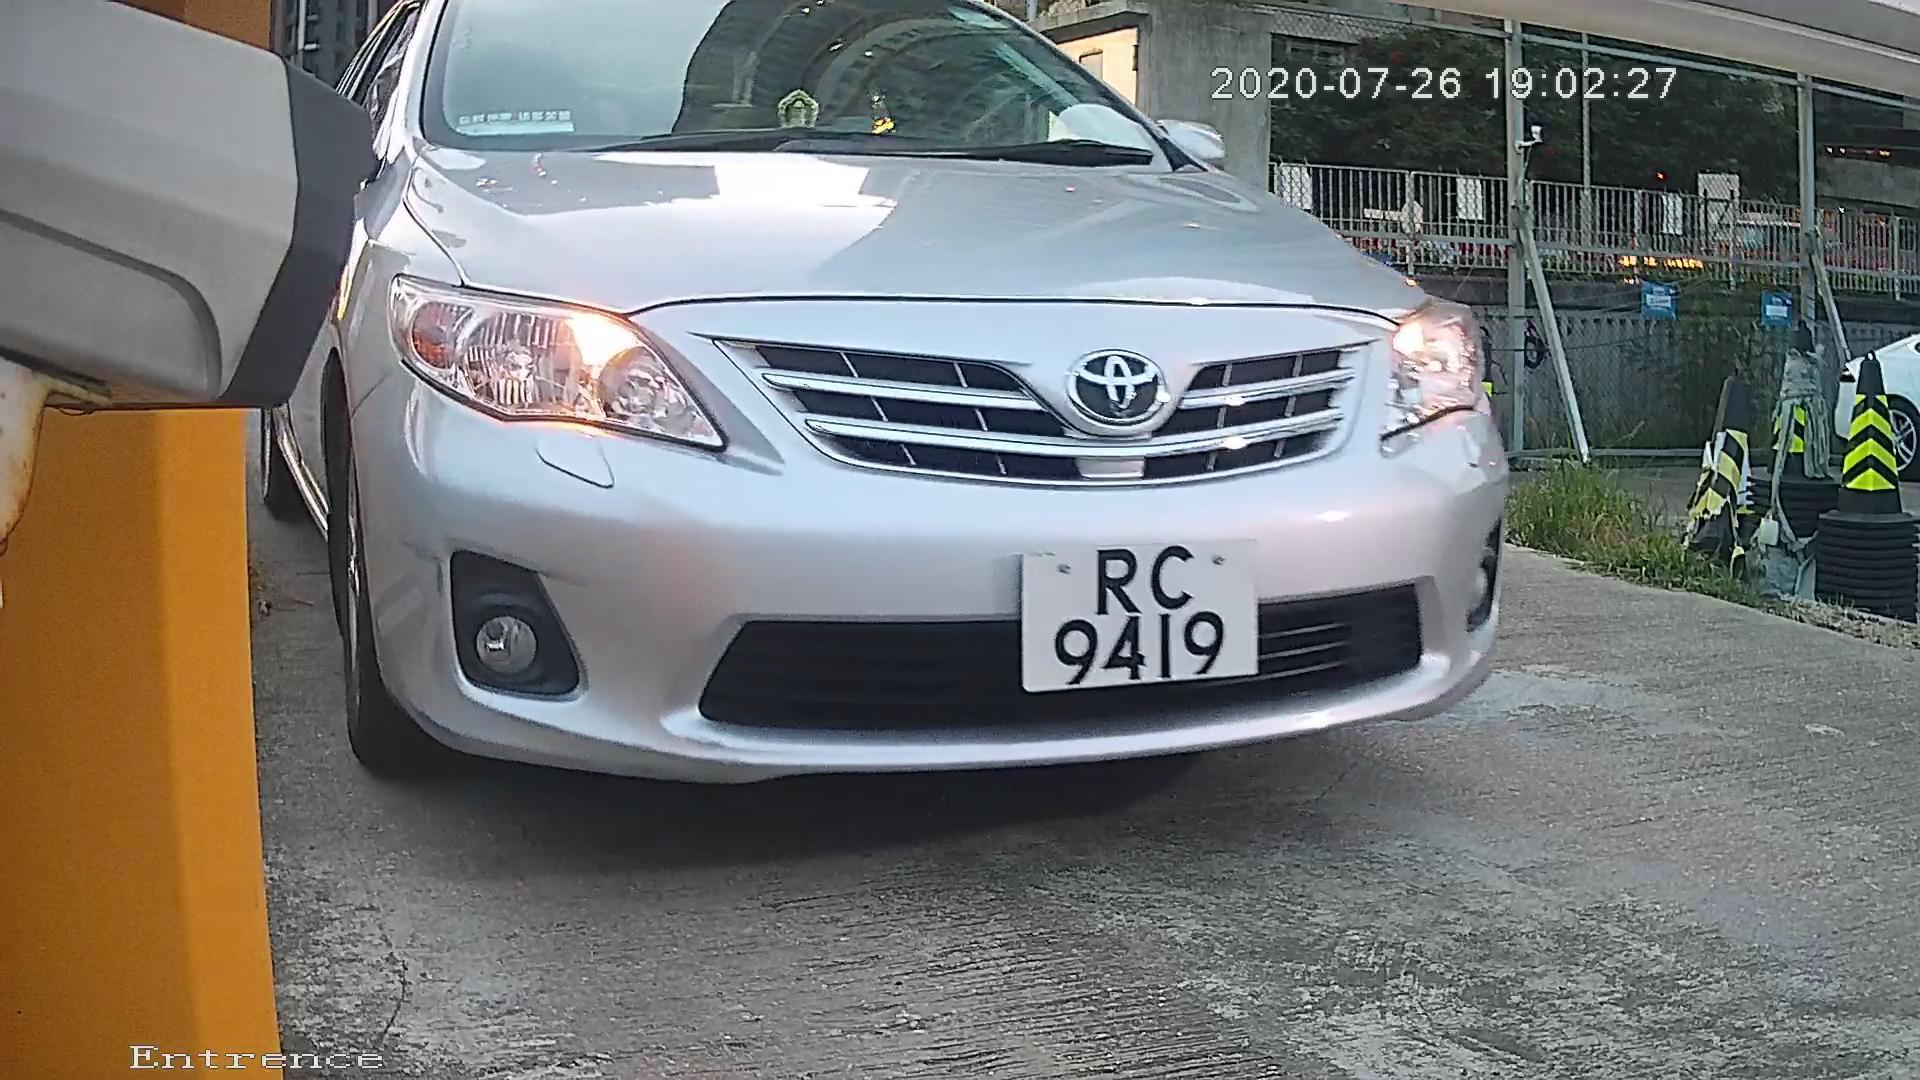License Plate: (978, 521, 1269, 704)
